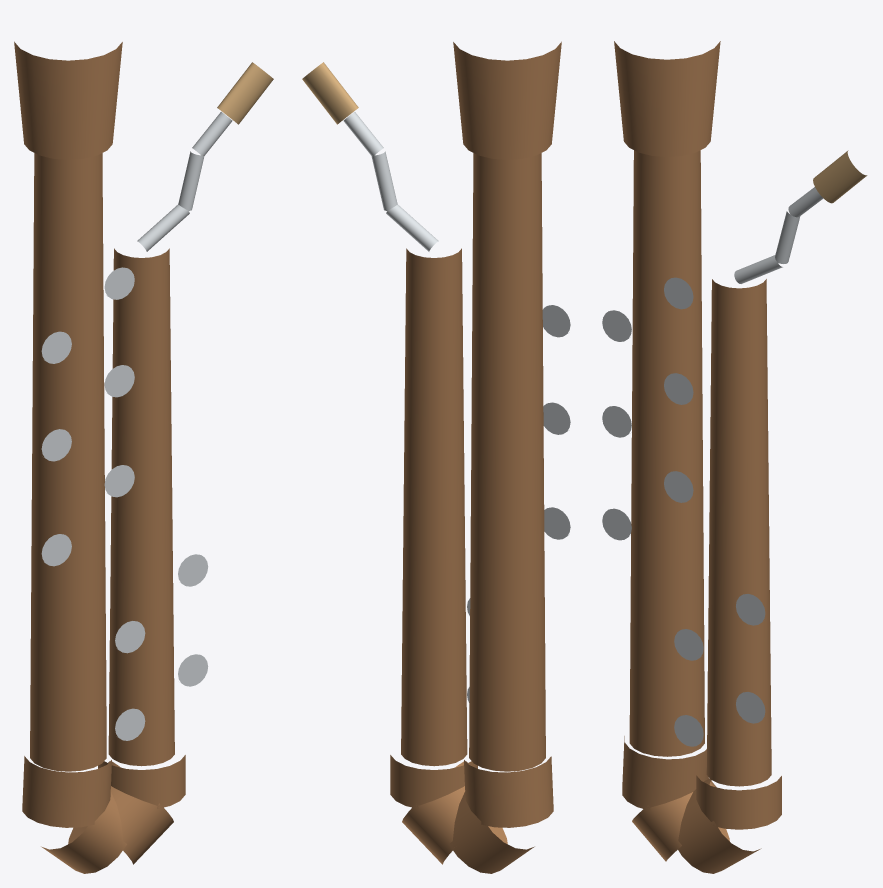
Rendered from contrabassoon.glb.
3 renders of one model, left to right at view 1: azimuth 30°, elevation 25°; view 2: azimuth 150°, elevation 25°; view 3: azimuth 330°, elevation 25°, orthographic. The views are drawn at different scales.
Parts seen in each view (by area): view 1: long_joint, wing_joint, bell, boot_1, boot_2, boot_4, boot_3, double_reed, bocal_1, bocal_2, key__k02, key__k07 (+9 smaller); view 2: long_joint, wing_joint, bell, boot_1, boot_2, boot_4, boot_3, double_reed, bocal_1, bocal_2, key__k02, key__k04 (+2 smaller); view 3: long_joint, wing_joint, bell, boot_1, boot_4, boot_3, boot_2, double_reed, bocal_2, key__k10, key__k08, key__k01 (+9 smaller).
Boxes of the visible parts, bbox=[...] form: long_joint: bbox=[30, 153, 106, 771]; wing_joint: bbox=[108, 248, 174, 766]; bell: bbox=[14, 41, 122, 159]; boot_1: bbox=[22, 756, 111, 827]; boot_2: bbox=[41, 791, 126, 873]; boot_4: bbox=[98, 755, 185, 808]; boot_3: bbox=[108, 761, 173, 864]; double_reed: bbox=[217, 62, 273, 124]; bocal_1: bbox=[137, 204, 189, 251]; bocal_2: bbox=[178, 151, 204, 210]; key__k02: bbox=[41, 331, 71, 363]; key__k07: bbox=[178, 554, 208, 586]; long_joint: bbox=[469, 153, 545, 771]; wing_joint: bbox=[401, 248, 467, 766]; bell: bbox=[453, 41, 561, 159]; boot_1: bbox=[464, 756, 553, 827]; boot_2: bbox=[449, 791, 534, 873]; boot_4: bbox=[390, 755, 477, 808]; boot_3: bbox=[402, 761, 467, 864]; double_reed: bbox=[302, 62, 358, 124]; bocal_1: bbox=[386, 204, 438, 251]; bocal_2: bbox=[371, 151, 397, 210]; key__k02: bbox=[542, 305, 570, 337]; key__k04: bbox=[543, 402, 570, 434]; long_joint: bbox=[629, 150, 704, 756]; wing_joint: bbox=[706, 279, 771, 786]; bell: bbox=[614, 41, 720, 156]; boot_1: bbox=[622, 736, 708, 810]; boot_4: bbox=[696, 775, 781, 829]; boot_3: bbox=[678, 778, 761, 873]; boot_2: bbox=[632, 778, 716, 861]; double_reed: bbox=[813, 150, 867, 203]; bocal_2: bbox=[775, 211, 800, 263]; key__k10: bbox=[674, 715, 703, 746]; key__k08: bbox=[674, 629, 703, 660]; key__k01: bbox=[664, 277, 693, 309].
Bounding box in the file's own units: 2.37 × 7.51 × 0.8846.
